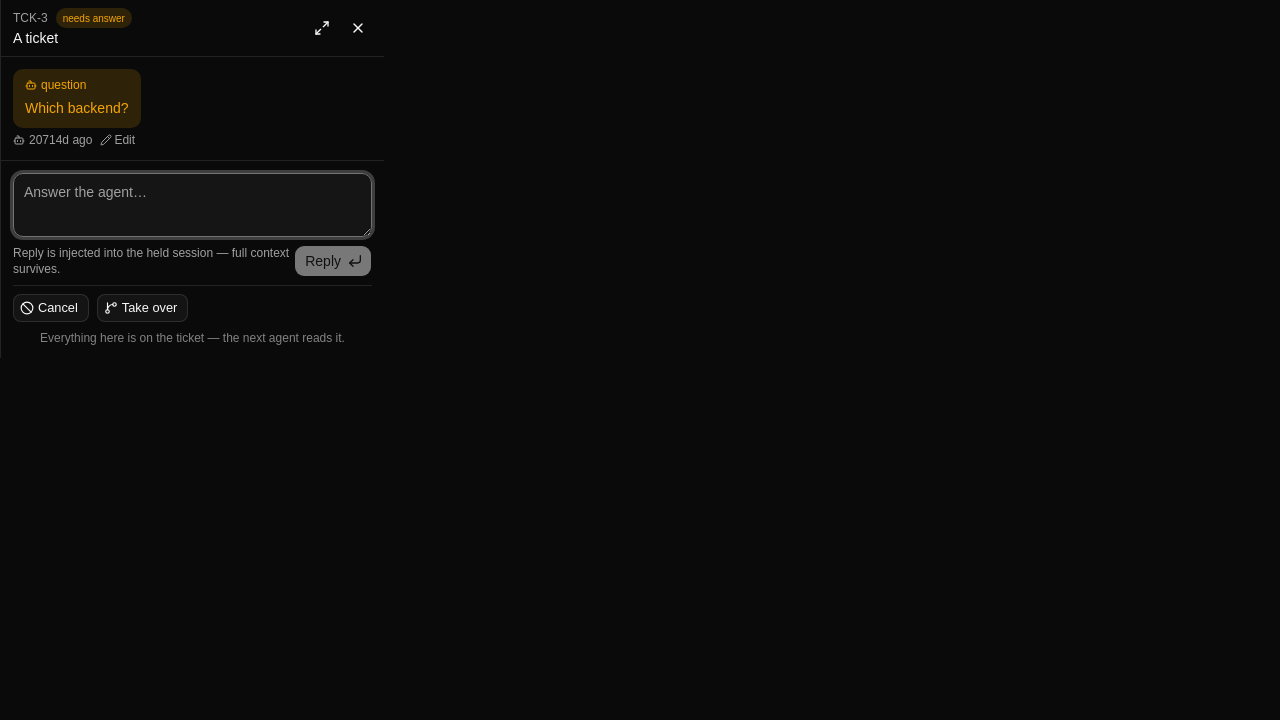
Test: ConversationPanel — actions › take over opens a confirmation dialog
Click the button "Take over".
click(143, 308)  # box [97,294,188,322]
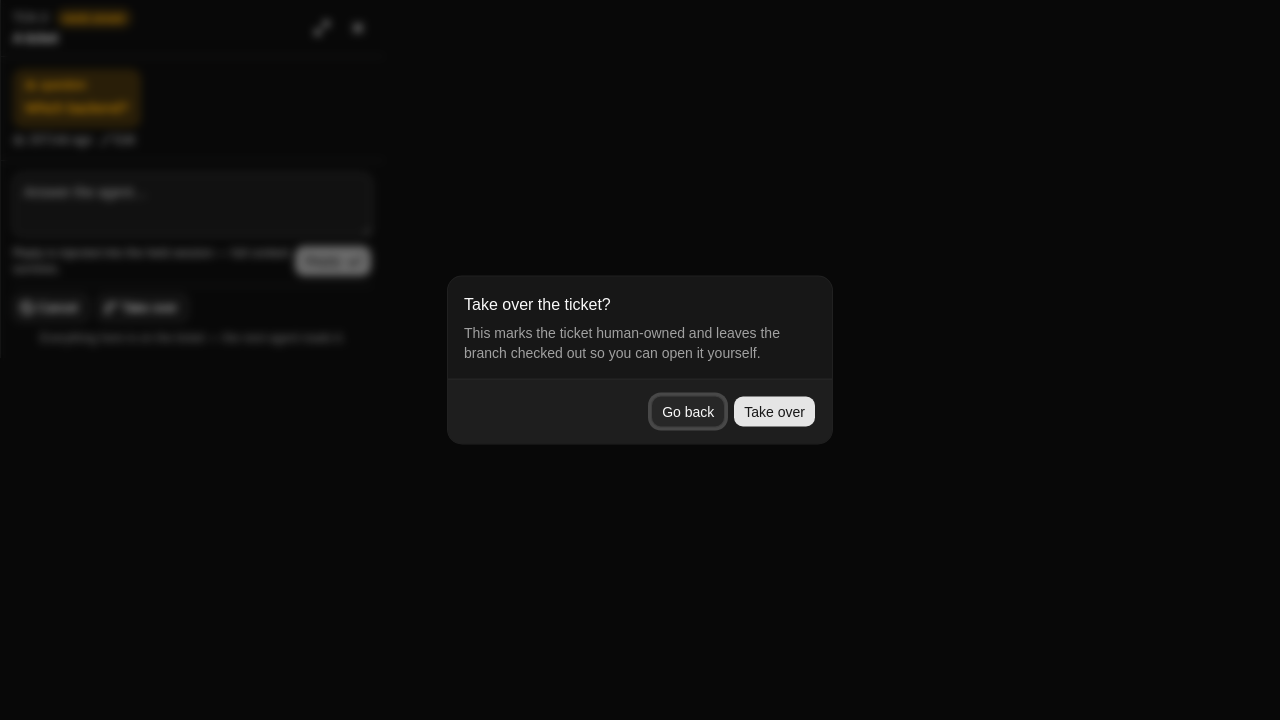
expect the heading "Take over the ticket?" is shown: met, box [464,292,611,316]
